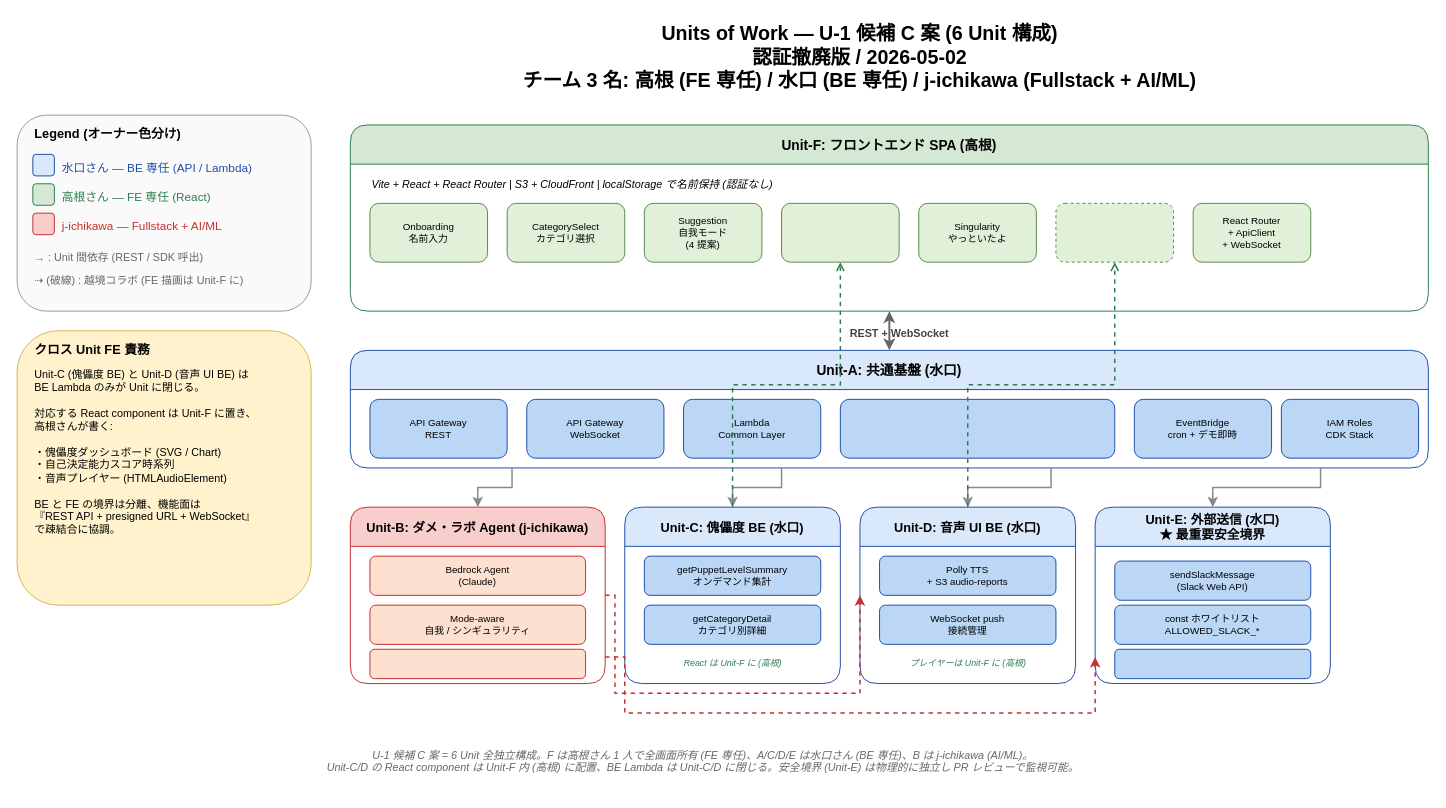
This 1446x808 diagram has some shape labels left out. The centre of each missing label's shape, as x and y in pixels:
"DRY_RUN モード 誤送信防止" goes at [1212,663].
"DynamoDB CategoryStates / ChoiceLogs / SingularityReports / WebSocketConnections" goes at [977,428].
"PuppetLevel 傀儡度ダッシュ" goes at [840,232].
"SELF_DECISION_LIMIT = 3 auto-graduate ロジック" goes at [477,663].
"音声プレイヤー (HTMLAudioElement)" goes at [1114,232].
